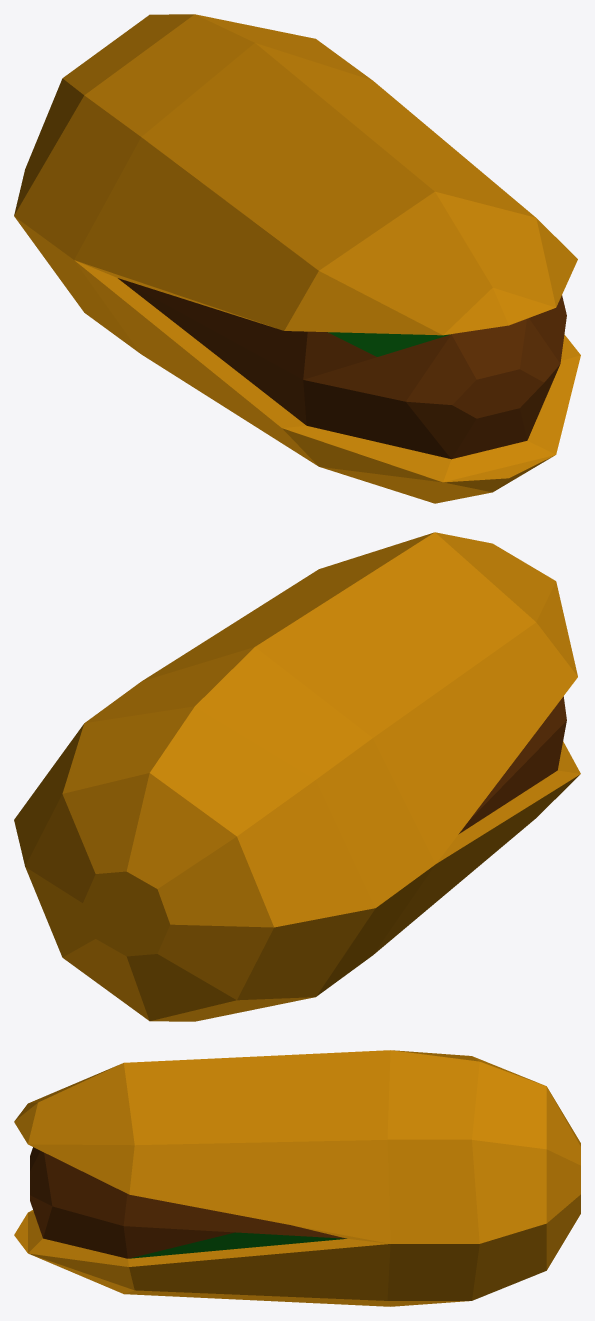
Rendered from pistachio01.obj.
3 views of the same model, one above another, from view 1: azimuth 30°, elevation 25°; view 2: azimuth 150°, elevation 25°; view 3: azimuth 270°, elevation 25° (orthographic). The views are drawn at different scales.
Parts seen in each view (by area): view 1: Cylinder.001_Cylinder; view 2: Cylinder.001_Cylinder; view 3: Cylinder.001_Cylinder.
Boxes of the visible parts, bbox=[...] form: Cylinder.001_Cylinder: bbox=[14, 14, 580, 503]; Cylinder.001_Cylinder: bbox=[14, 532, 580, 1021]; Cylinder.001_Cylinder: bbox=[14, 1050, 580, 1306].
Size of the model in its own units: 0.0138 by 0.0127 by 0.0254.
1 material, 1 textured.
